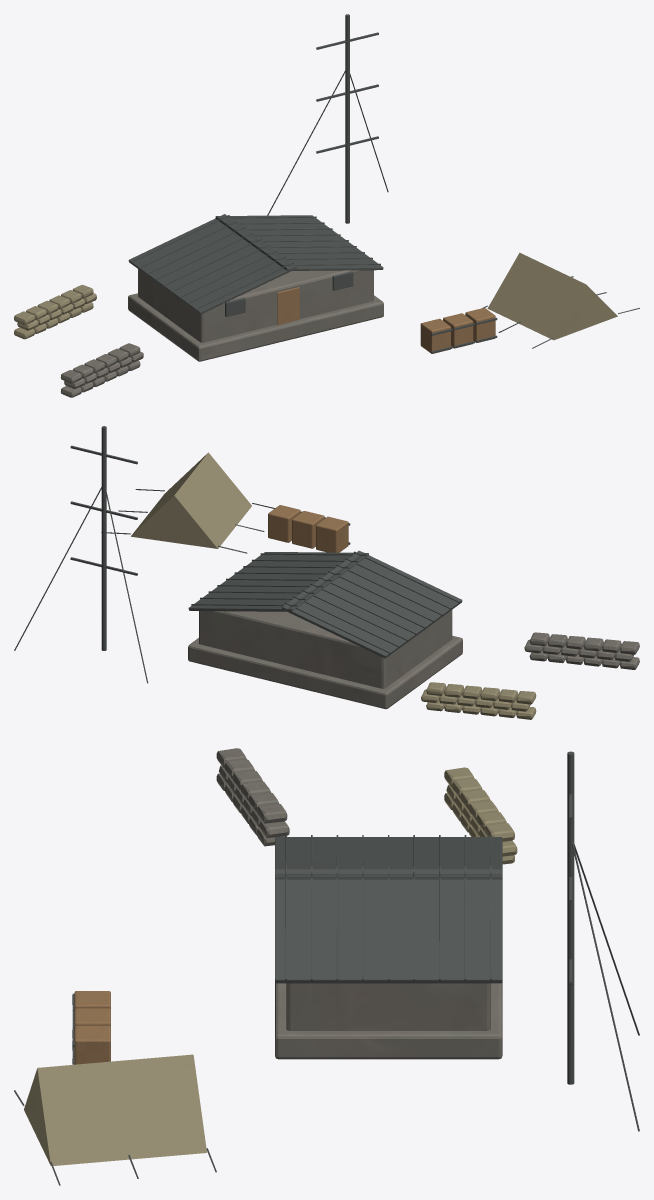
Rendered from raven-lod1.glb.
3 views of the same model, one above another, from view 1: azimuth 30°, elevation 25°; view 2: azimuth 150°, elevation 25°; view 3: azimuth 270°, elevation 25° (orthographic). The views are drawn at different scales.
Parts seen in each view (by area): view 1: raven_bunker_0.001, raven_small_tent_4.001, raven_crate_stack_5.001, raven_breastwork_2.001, raven_sandbags_3.001, raven_mast_1.001; view 2: raven_bunker_0.001, raven_small_tent_4.001, raven_breastwork_2.001, raven_sandbags_3.001, raven_crate_stack_5.001, raven_mast_1.001; view 3: raven_bunker_0.001, raven_small_tent_4.001, raven_mast_1.001, raven_breastwork_2.001, raven_sandbags_3.001, raven_crate_stack_5.001.
Part boxes in pixels (bbox=[...]): raven_bunker_0.001: bbox=[128, 214, 383, 361]; raven_small_tent_4.001: bbox=[482, 252, 639, 348]; raven_crate_stack_5.001: bbox=[420, 308, 497, 353]; raven_breastwork_2.001: bbox=[60, 343, 143, 397]; raven_sandbags_3.001: bbox=[14, 285, 96, 339]; raven_mast_1.001: bbox=[267, 14, 388, 223]; raven_bunker_0.001: bbox=[188, 550, 462, 709]; raven_small_tent_4.001: bbox=[101, 452, 274, 553]; raven_breastwork_2.001: bbox=[524, 632, 639, 669]; raven_sandbags_3.001: bbox=[421, 682, 536, 719]; raven_crate_stack_5.001: bbox=[268, 505, 350, 552]; raven_mast_1.001: bbox=[14, 426, 148, 683]; raven_bunker_0.001: bbox=[275, 835, 502, 1059]; raven_small_tent_4.001: bbox=[14, 1054, 216, 1185]; raven_mast_1.001: bbox=[567, 751, 639, 1131]; raven_breastwork_2.001: bbox=[216, 748, 289, 846]; raven_sandbags_3.001: bbox=[444, 767, 517, 864]; raven_crate_stack_5.001: bbox=[72, 991, 110, 1064].
Size of the model in its own units: 42.15 by 17 by 27.5.
4 materials, 4 textured.
